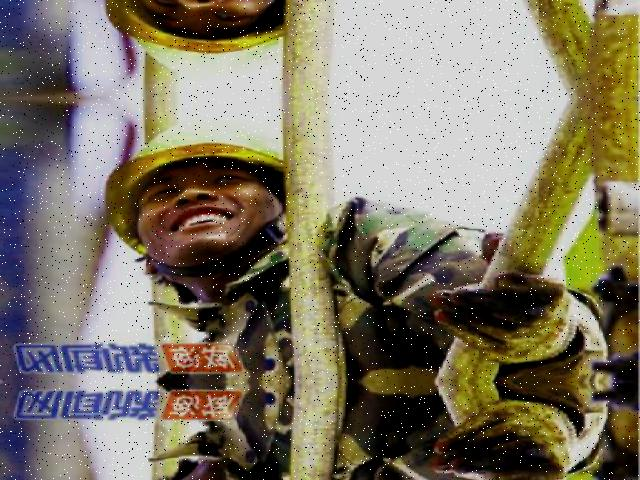Helmet: (99, 110, 302, 260)
